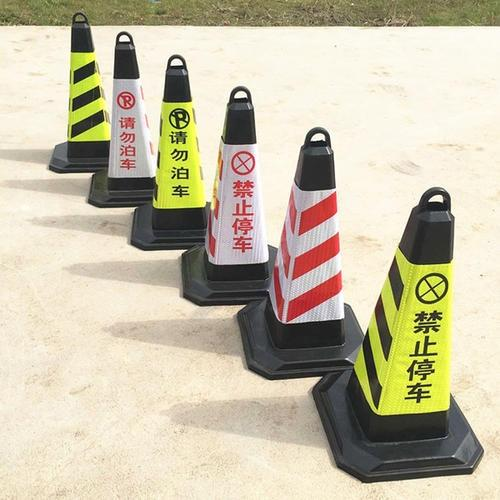cone_barrel: (335, 189, 474, 457), (254, 131, 362, 365), (190, 90, 274, 299), (141, 56, 210, 241), (47, 14, 115, 166), (99, 33, 159, 203)
